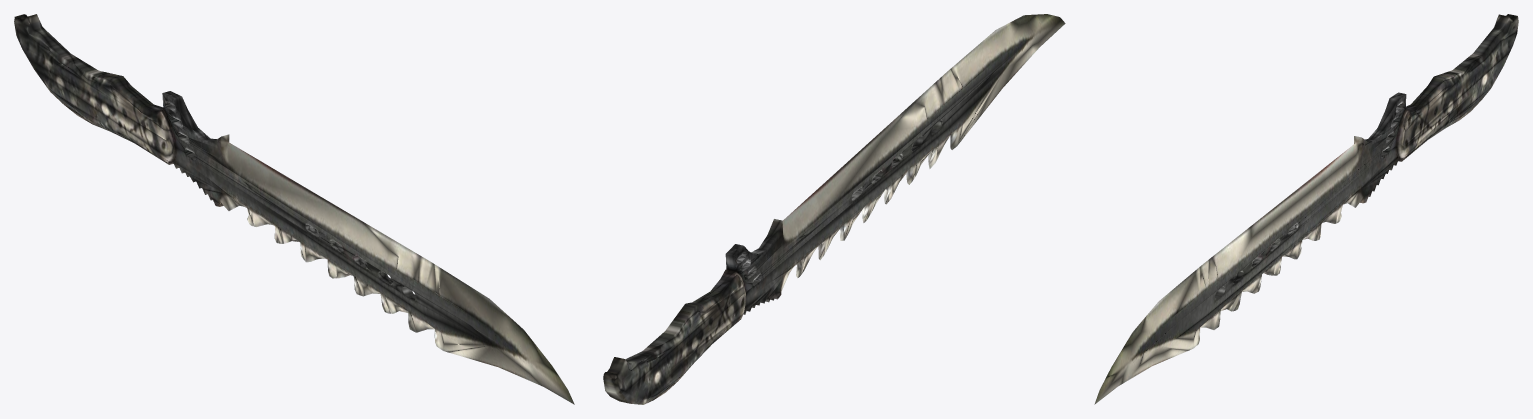
The model's file is model_align.obj.
3 views of the same model, side by side, from view 1: azimuth 30°, elevation 25°; view 2: azimuth 150°, elevation 25°; view 3: azimuth 330°, elevation 25° (orthographic). The views are drawn at different scales.
Bounding box in the file's own units: 0.0168 × 0.0219 × 0.2349.
Materials: 1 (1 with a texture image).
